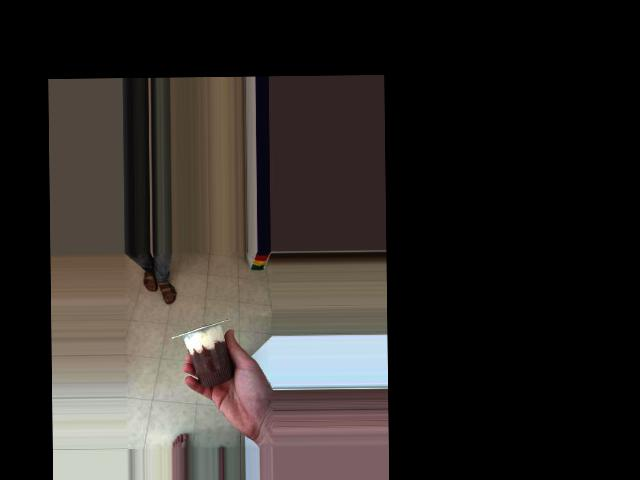milky: (176, 318, 237, 393)
